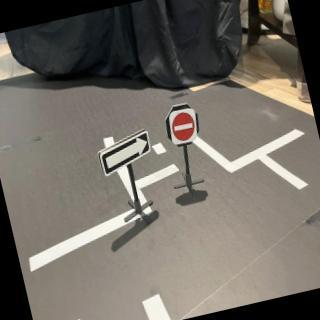sign_noentry: (163, 104, 203, 148)
sign_oneway_right: (94, 126, 156, 180)
